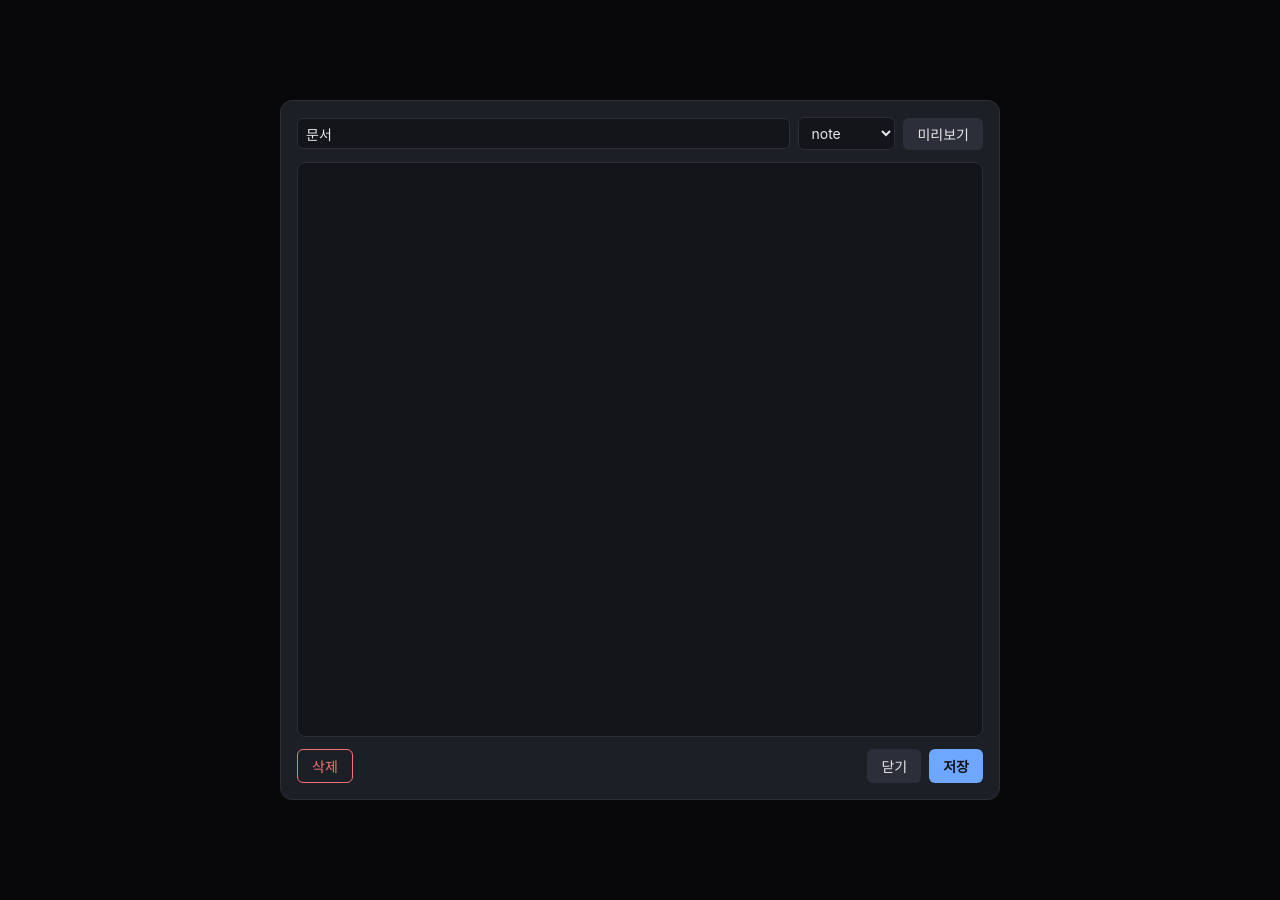
Scenario: 삭제 실패 시 서버 detail을 그대로 보여주고 닫히지 않는다
Step 1. Click the button "삭제" → click(325, 766), box [297,749,353,783]
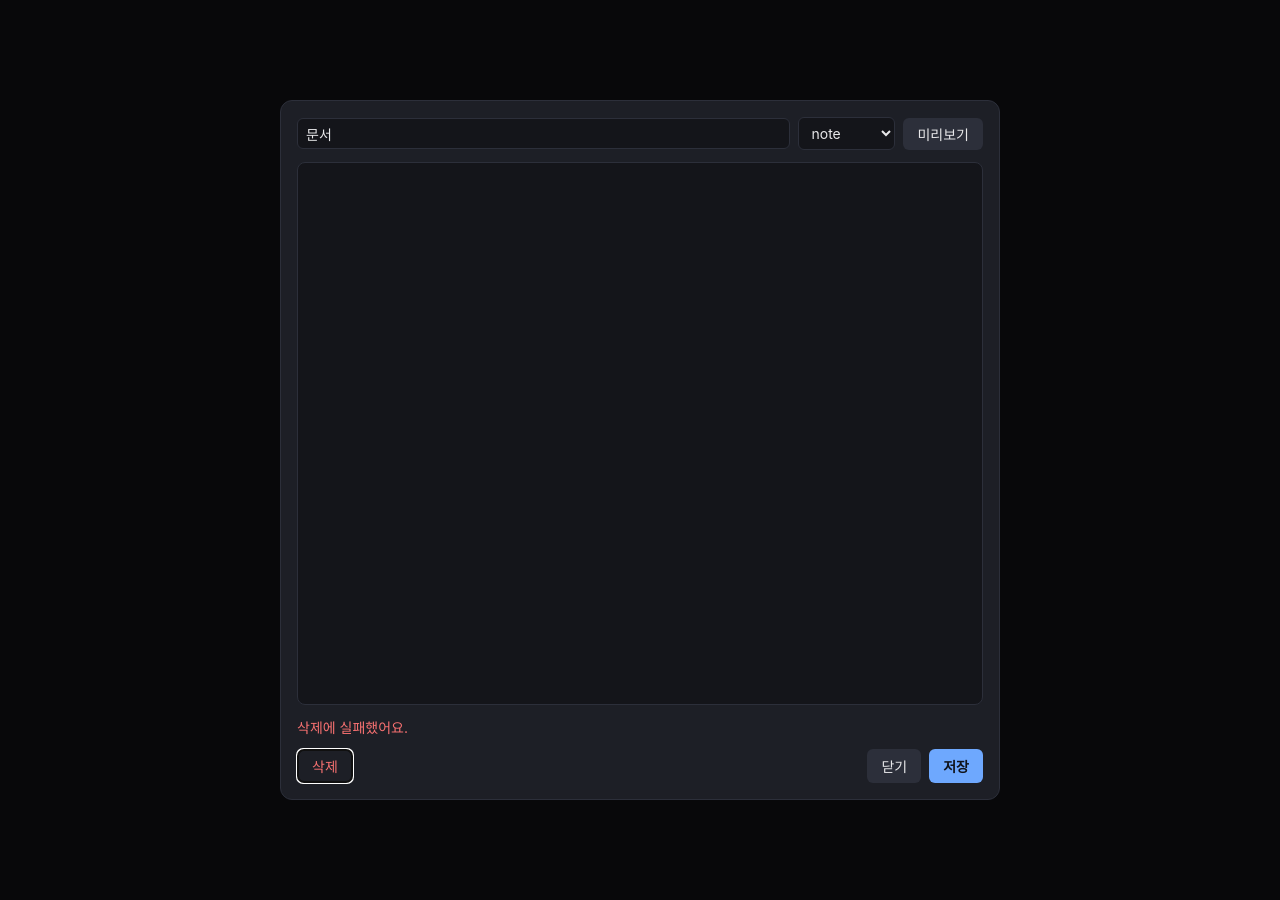
Result: the text "삭제에 실패했어요." is shown at [297,719,408,736]
